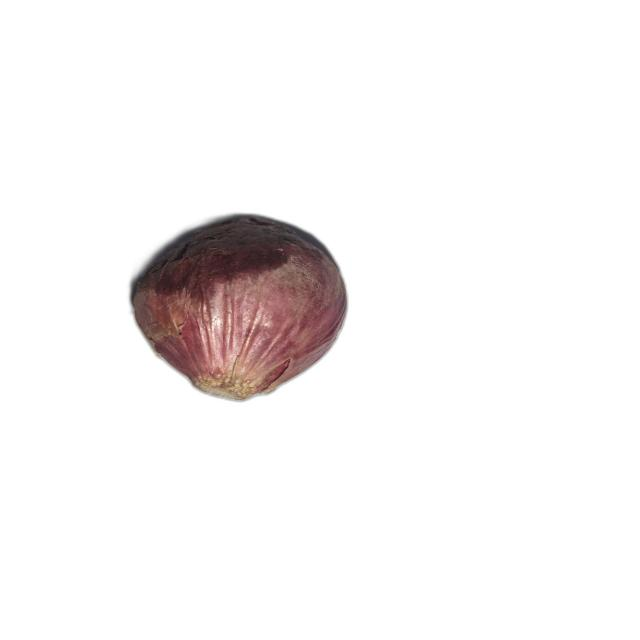onion: (131, 215, 350, 402)
